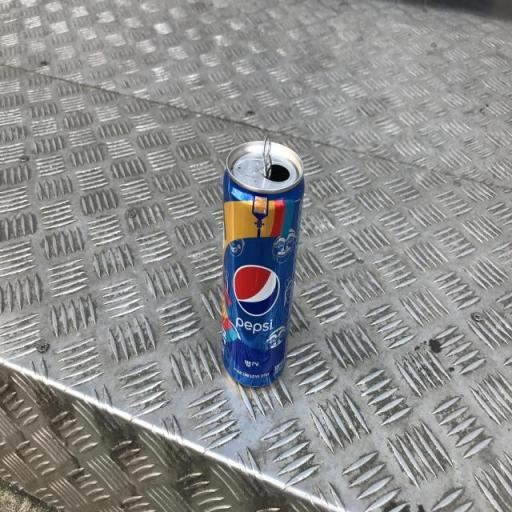metal: (169, 103, 345, 398)
